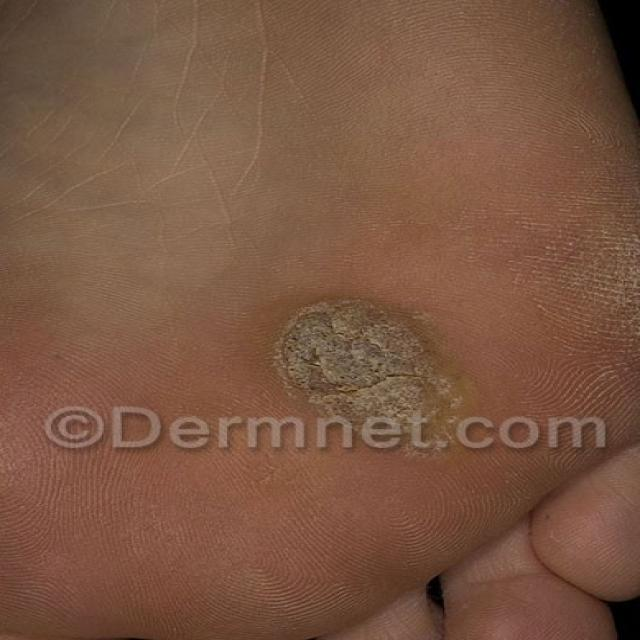Warts: (262, 263, 486, 462)
